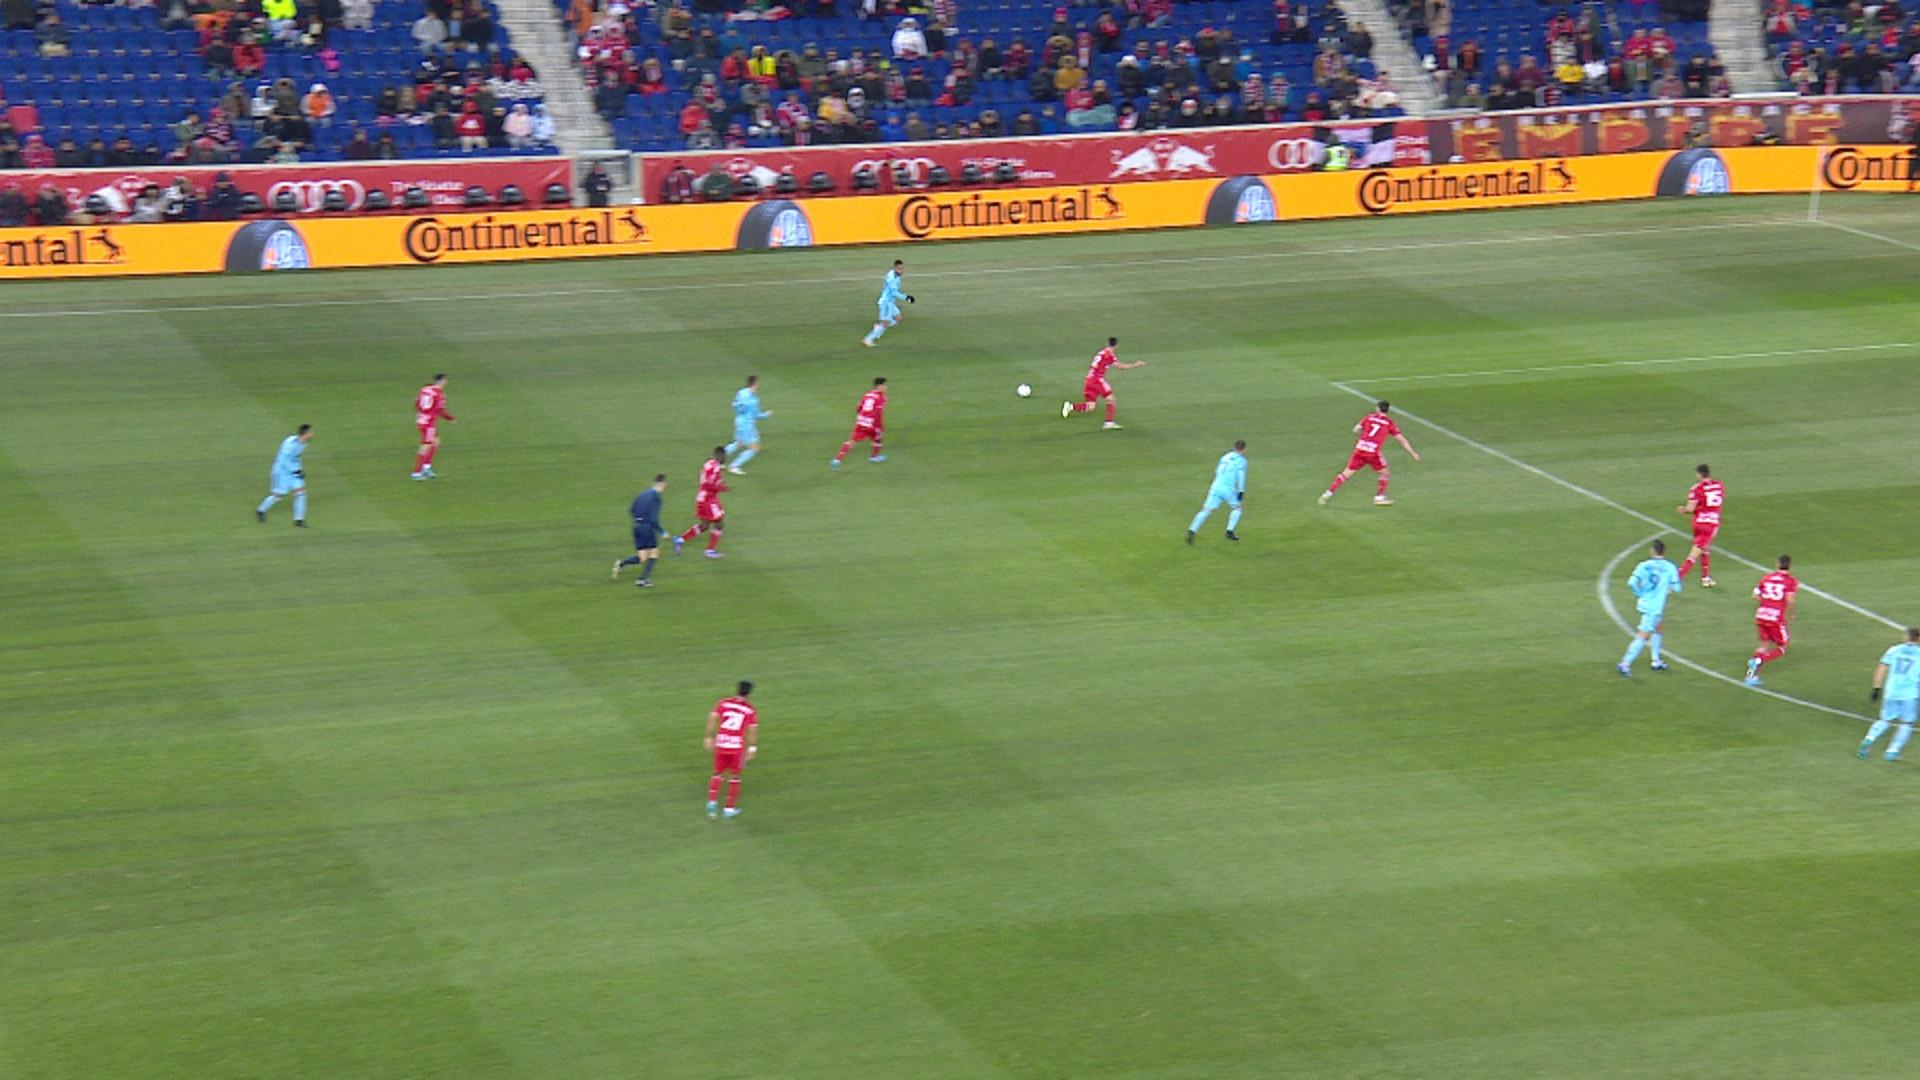football: (1017, 383, 1033, 398)
